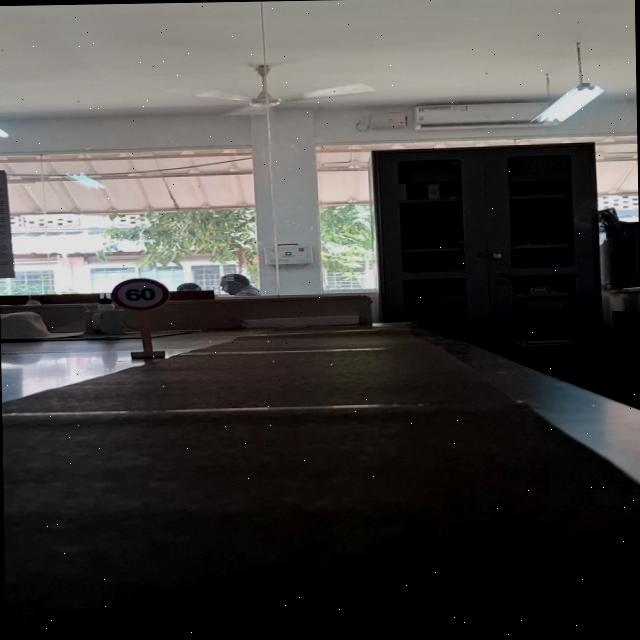Speed60: (109, 276, 170, 312)
